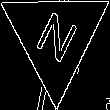N_SW: (29, 6, 82, 69)
